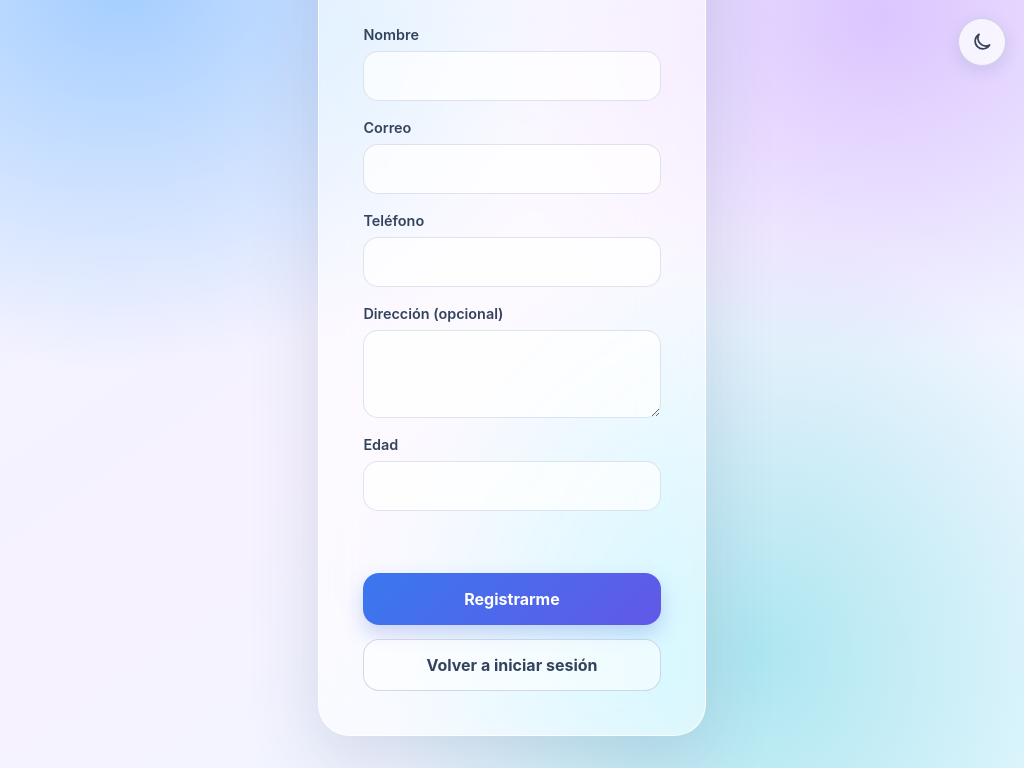
Test: ExamRegistrationPage › shows an error and stays on the registration page when sign-out fails
(page scrolled)
Step 1. Click the button "Volver a iniciar sesión" → (512, 664), box [363,638,661,690]
(page scrolled)
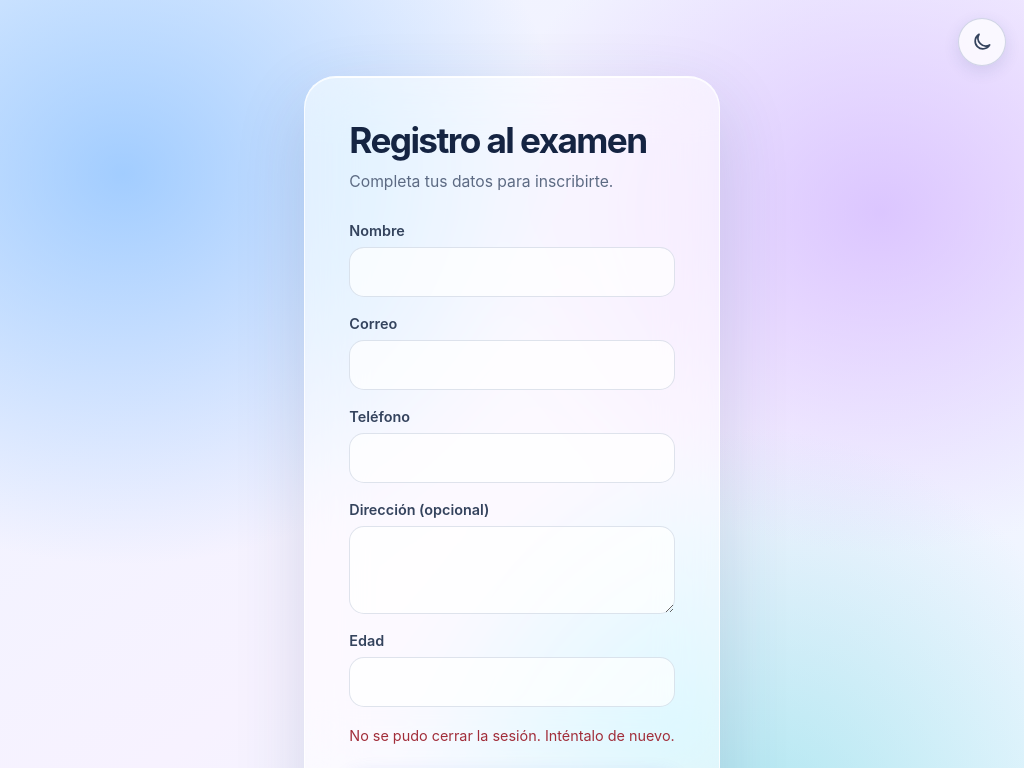
Expected: the heading "Registro al examen" is shown, [349,121,675,160]
Expected: the message reads "No se pudo cerrar la sesión. Inténtalo de nuevo.", [349,727,675,744]
